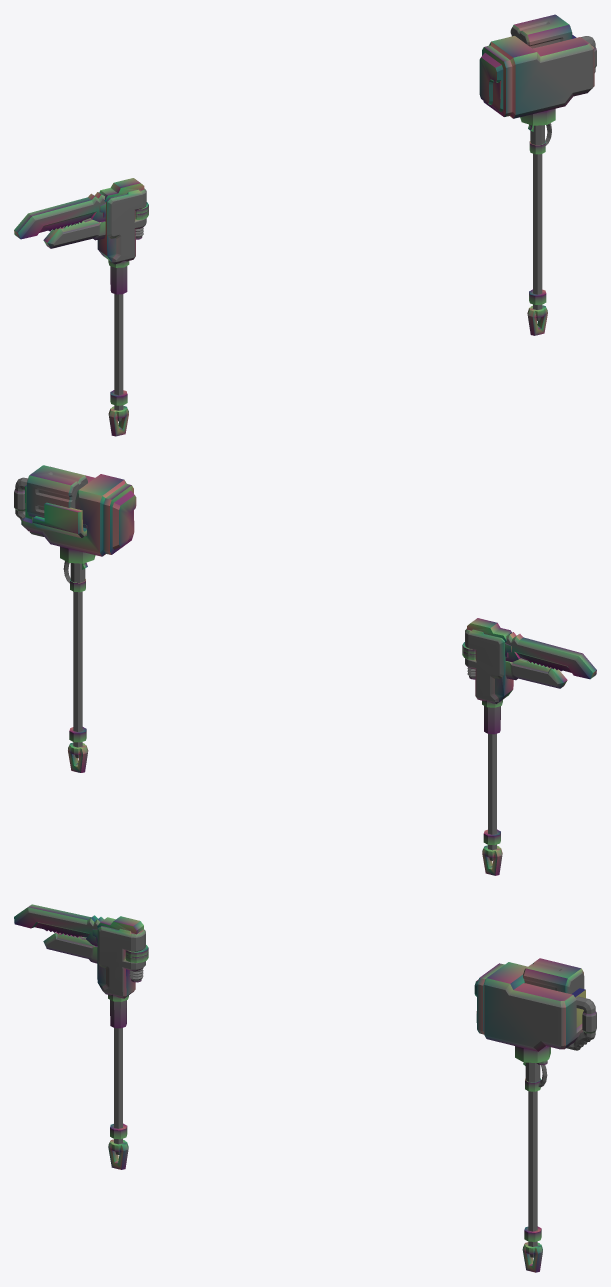
The model's file is Eff_Okk_Weapon.fbx.
3 renders of one model, top to bottom at view 1: azimuth 30°, elevation 25°; view 2: azimuth 150°, elevation 25°; view 3: azimuth 330°, elevation 25°, orthographic.
Parts seen in each view (by area): view 1: Weapon_Okk_01, Weapon_Okk_02; view 2: Weapon_Okk_01, Weapon_Okk_02; view 3: Weapon_Okk_01, Weapon_Okk_02.
Boxes of the visible parts, x1,y1,x2,y2 form: Weapon_Okk_01: (479,14,596,335); Weapon_Okk_02: (14,178,148,436); Weapon_Okk_01: (14,465,136,772); Weapon_Okk_02: (462,618,596,875); Weapon_Okk_01: (474,958,596,1272); Weapon_Okk_02: (14,904,148,1169).
Bounding box in the file's own units: 1.81 × 0.8927 × 0.1817.
